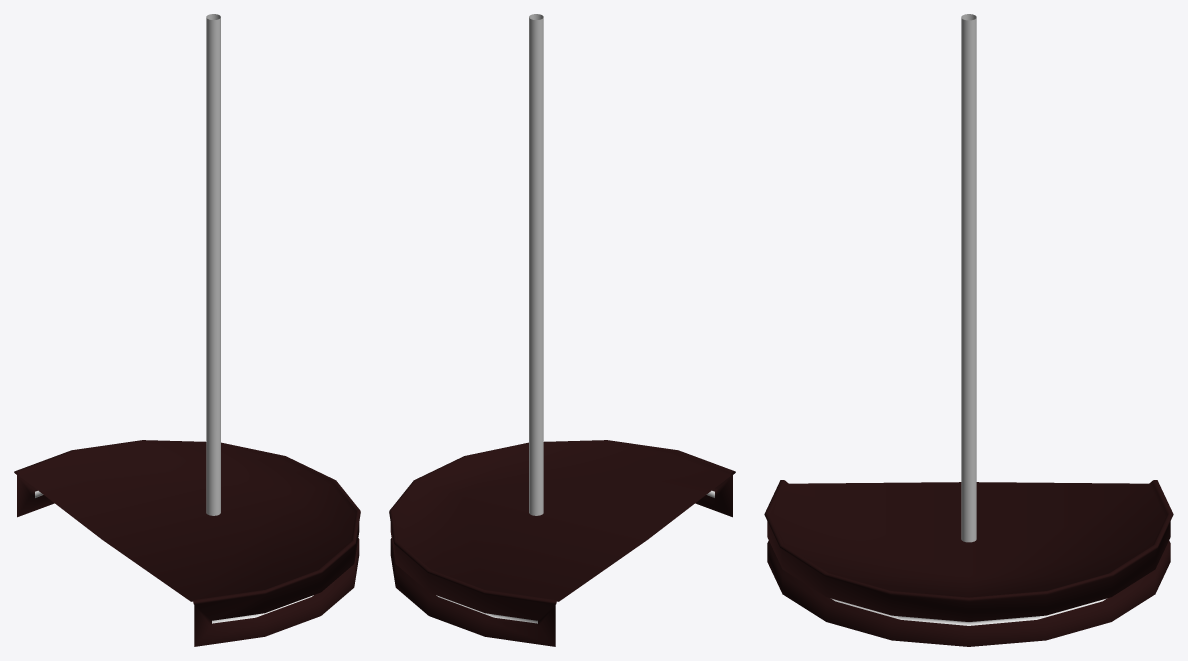
The model's file is m_roomofPoleDance_poleBar.fbx.
The picture shows the model from 3 angles, left to right: view 1: azimuth 30°, elevation 25°; view 2: azimuth 150°, elevation 25°; view 3: azimuth 270°, elevation 25°; orthographic projection. The views are drawn at different scales.
Visible parts, largest first — view 1: m_roomofPoleDance_poleBar; view 2: m_roomofPoleDance_poleBar; view 3: m_roomofPoleDance_poleBar.
Part boxes in pixels (x1,y1,x2,y2): m_roomofPoleDance_poleBar: [14, 14, 360, 646]; m_roomofPoleDance_poleBar: [389, 14, 735, 646]; m_roomofPoleDance_poleBar: [764, 14, 1173, 646].
Bounding box in the file's own units: 138 × 302 × 198.
